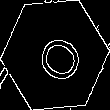O_NW: (26, 25, 84, 85)
